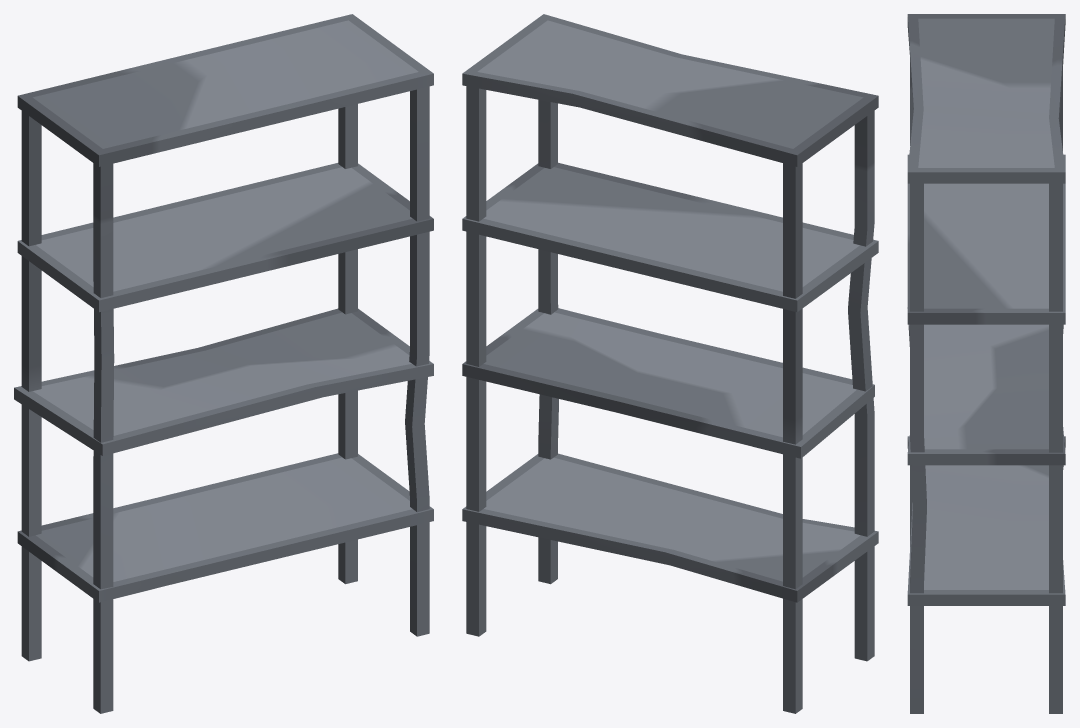
File: SM_Prop_Shelf_01.fbx
3 renders of one model, left to right at view 1: azimuth 30°, elevation 25°; view 2: azimuth 150°, elevation 25°; view 3: azimuth 270°, elevation 25°, orthographic. The views are drawn at different scales.
Visible parts, largest first — view 1: SM_Prop_Shelf_01; view 2: SM_Prop_Shelf_01; view 3: SM_Prop_Shelf_01.
Part boxes in pixels (bbox=[...]): SM_Prop_Shelf_01: bbox=[14, 14, 433, 713]; SM_Prop_Shelf_01: bbox=[462, 14, 878, 713]; SM_Prop_Shelf_01: bbox=[907, 14, 1065, 713].
Bounding box in the file's own units: 122 × 194 × 50.88.
